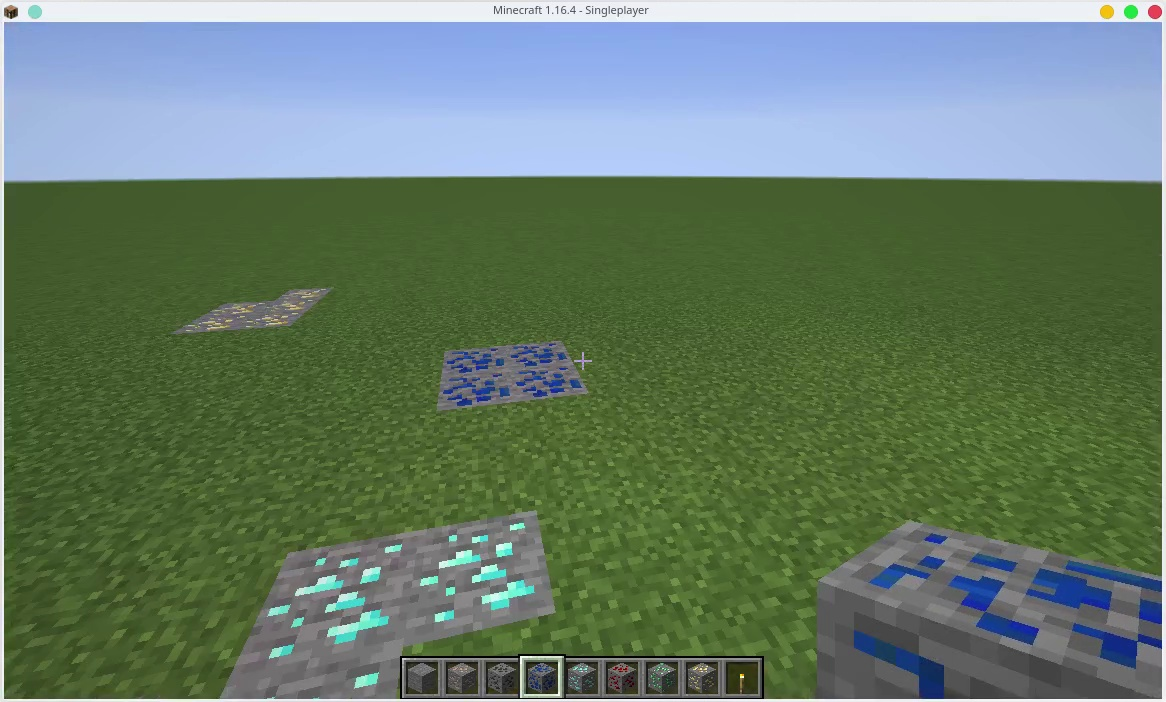gold: (238, 313, 300, 331), (688, 663, 716, 692), (183, 315, 230, 332), (214, 300, 255, 314), (286, 286, 333, 298), (259, 301, 310, 310)
